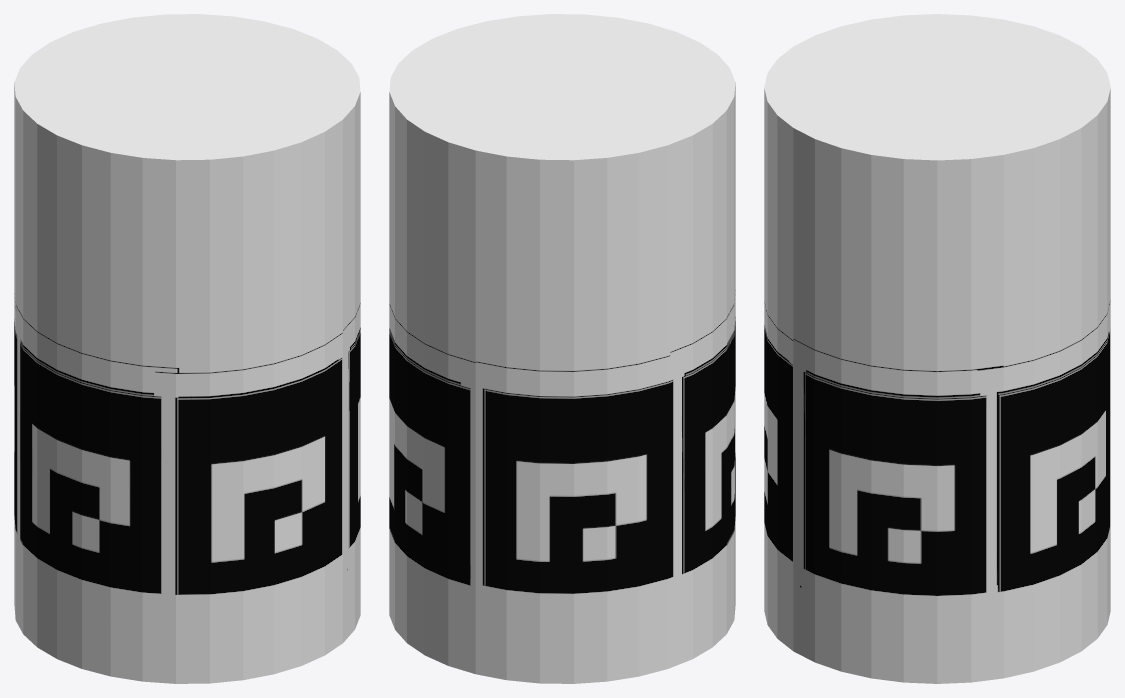
The model's file is cylinder_obsticle_3.obj.
The picture shows the model from 3 angles, left to right: view 1: azimuth 30°, elevation 25°; view 2: azimuth 150°, elevation 25°; view 3: azimuth 270°, elevation 25°; orthographic projection.
Visible parts, largest first — view 1: Cylinder; view 2: Cylinder; view 3: Cylinder.
Part boxes in pixels (box(x1,y1,x2,y2)): Cylinder: box(14, 14, 360, 683); Cylinder: box(389, 14, 735, 683); Cylinder: box(764, 14, 1110, 683).
Bounding box in the file's own units: 0.3 × 0.5 × 0.3.
1 material, 1 textured.
